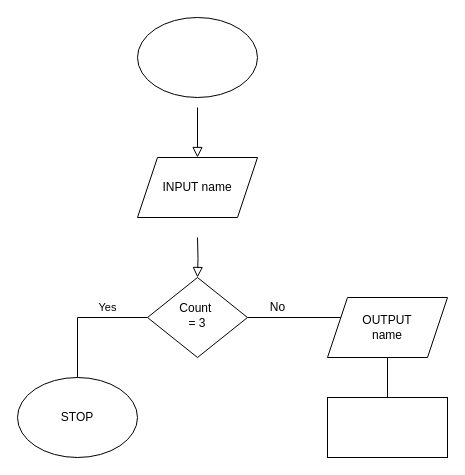
Some shapes in this 465 by 475 pixel diagram are drawn without their labels. The box of each missing label's shape, as (x1, y1, x2, y2) in pixels:
Count = count + 1: (326, 396, 448, 458)
START: (136, 16, 258, 98)
